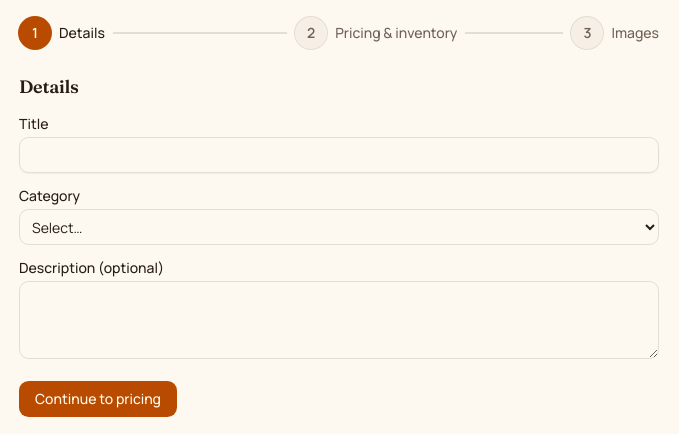
OnboardingWizard › blocks advancing past pricing when the price is not positive
Type "Desk Mat" into the field labelled "Title". click: (339, 155)
box: [19,137,659,173]
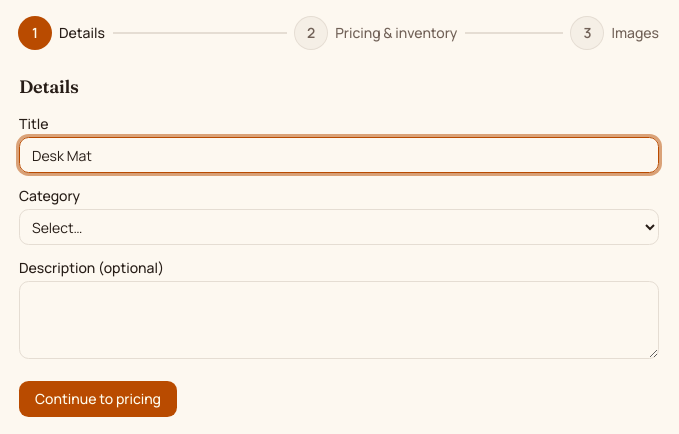
Select "home" in the dropdown labelled "Category". click: (339, 227)
box: [19,209,659,245]
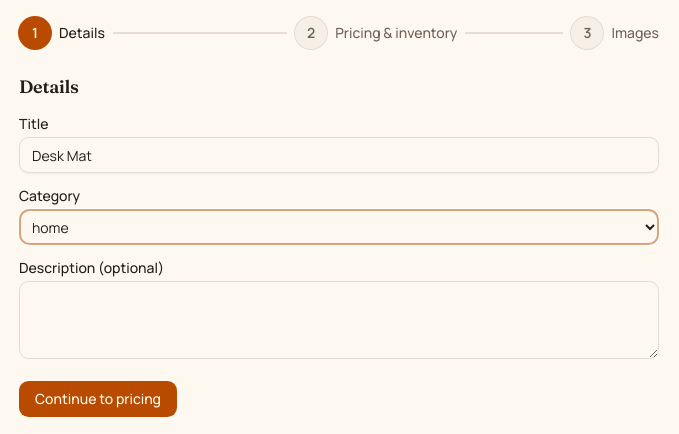
Click the button "Continue to pricing". click: (98, 399)
box: [19,381,177,417]
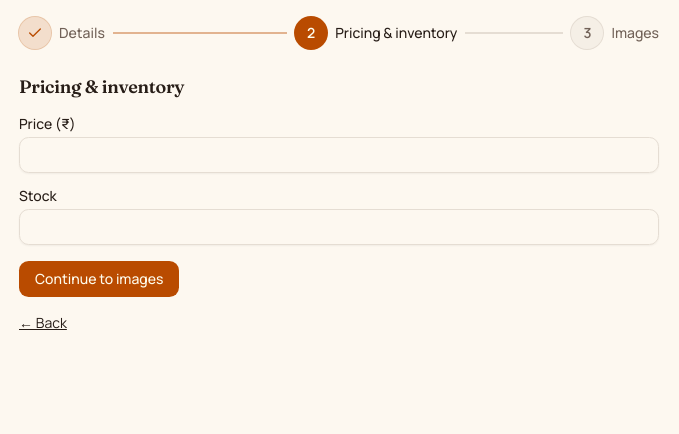
Type "0" into the number field labelled "Price (₹)". click: (339, 155)
box: [19,137,659,173]
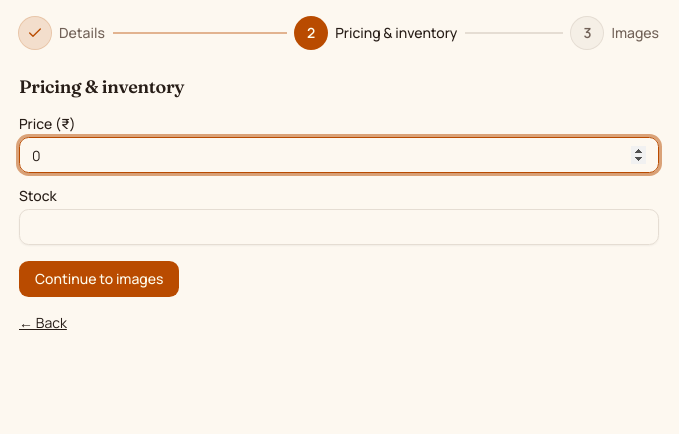
Type "5" into the number field labelled "Stock". click: (339, 227)
box: [19,209,659,245]
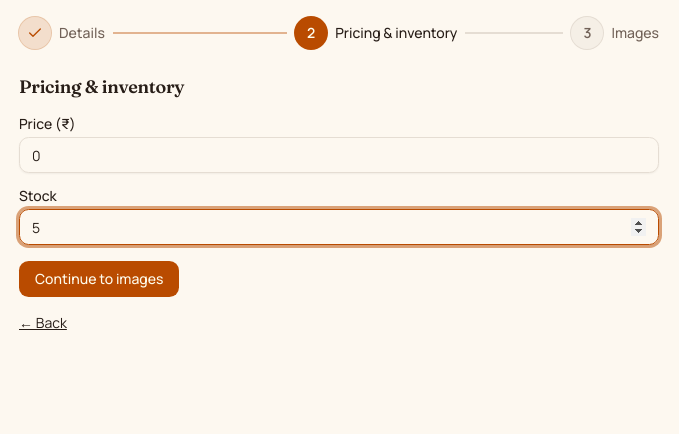
Click the button "Continue to images". click: (99, 279)
box: [19,261,180,297]
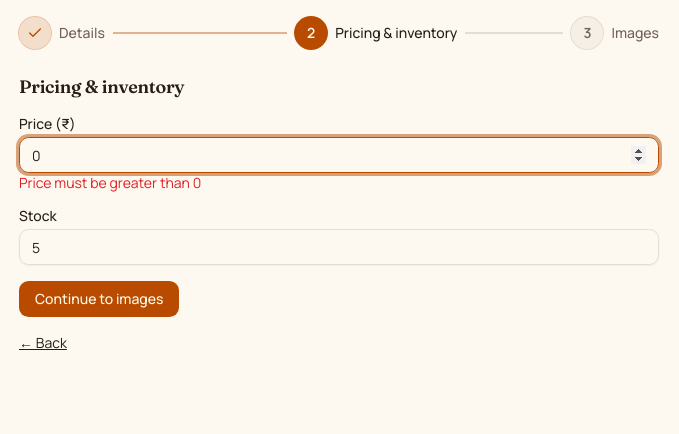
Now the message "Price must be greater than 0" is shown, box [19,173,201,192]
